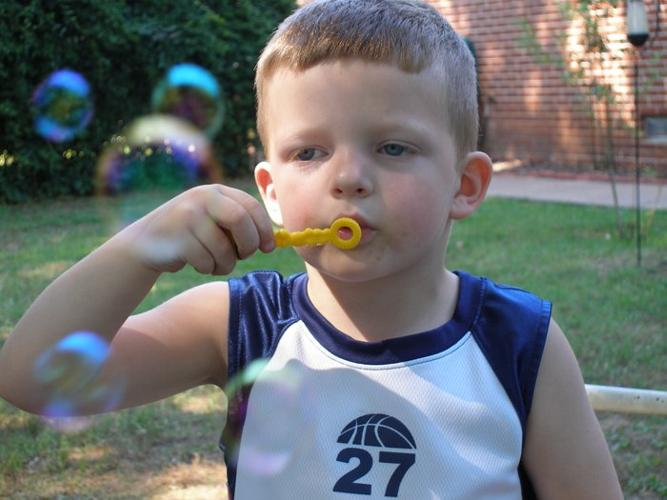person: (5, 3, 637, 500)
